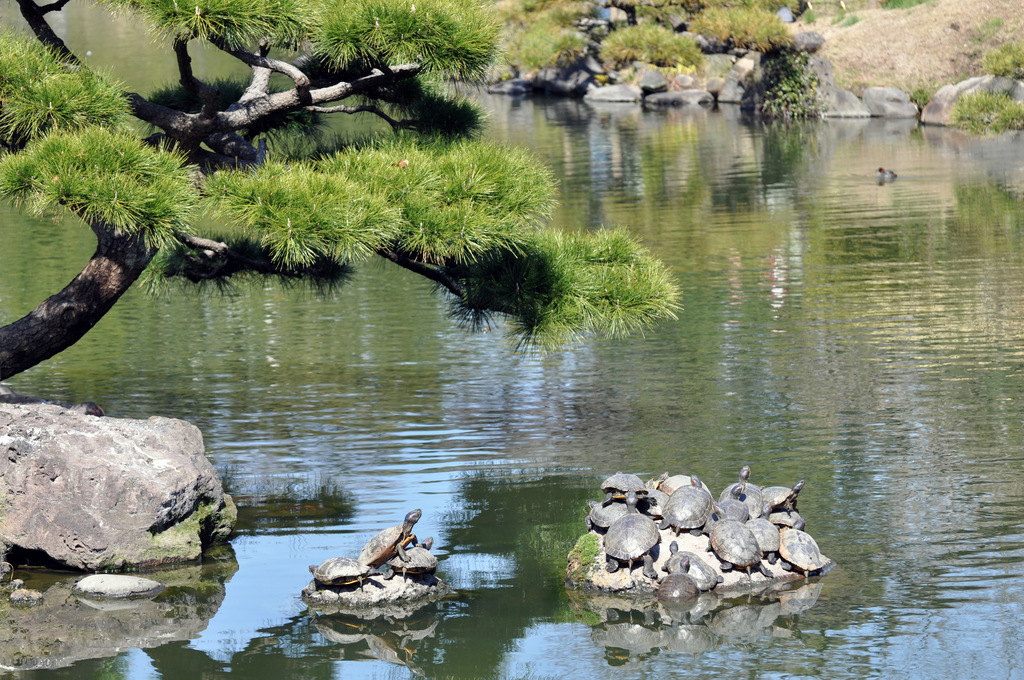Sea turtles: (581, 461, 821, 604), (351, 504, 421, 566), (307, 549, 375, 590), (385, 534, 436, 579)
